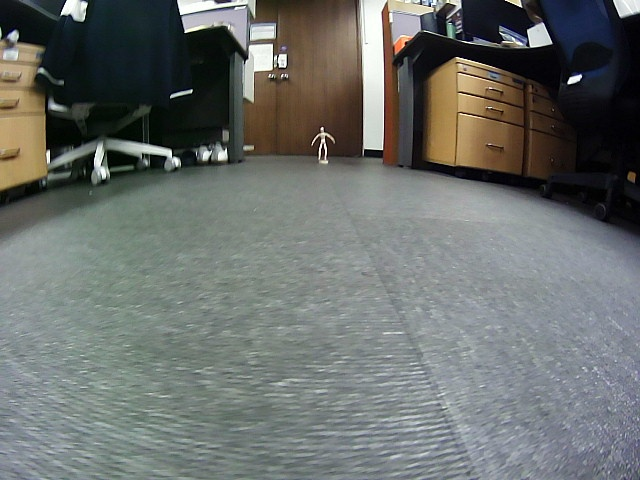person: (311, 127, 336, 160)
